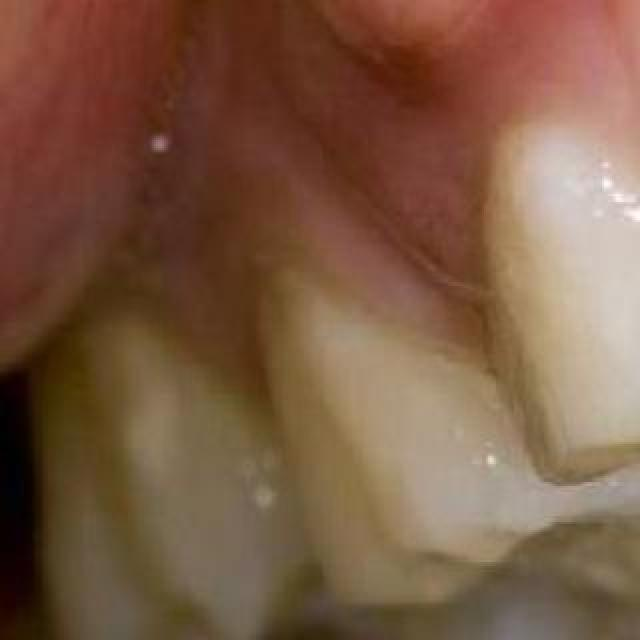plaque: (218, 263, 536, 471), (11, 322, 261, 556)
